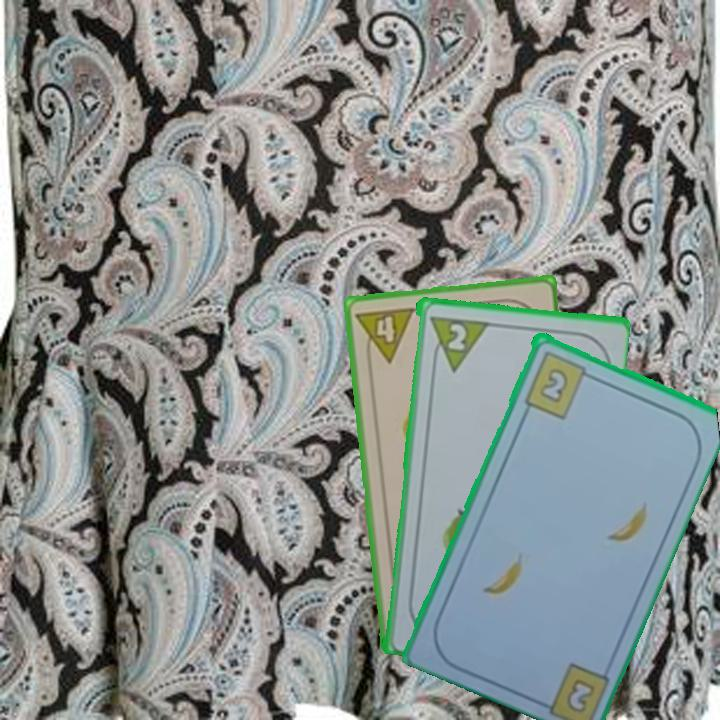2b: (520, 347, 597, 421), (562, 674, 598, 715)
2p: (441, 319, 469, 353)
4p: (352, 303, 418, 367)
